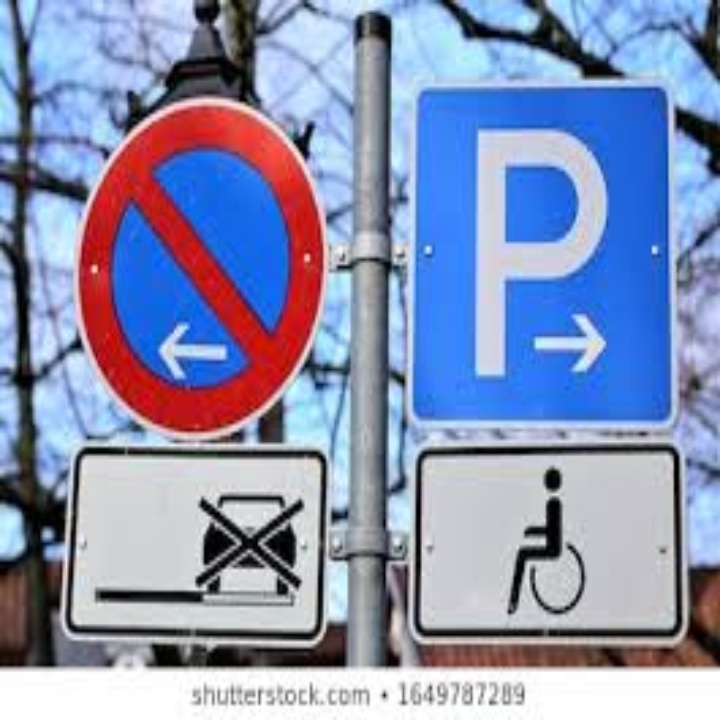parking: (466, 113, 616, 377)
